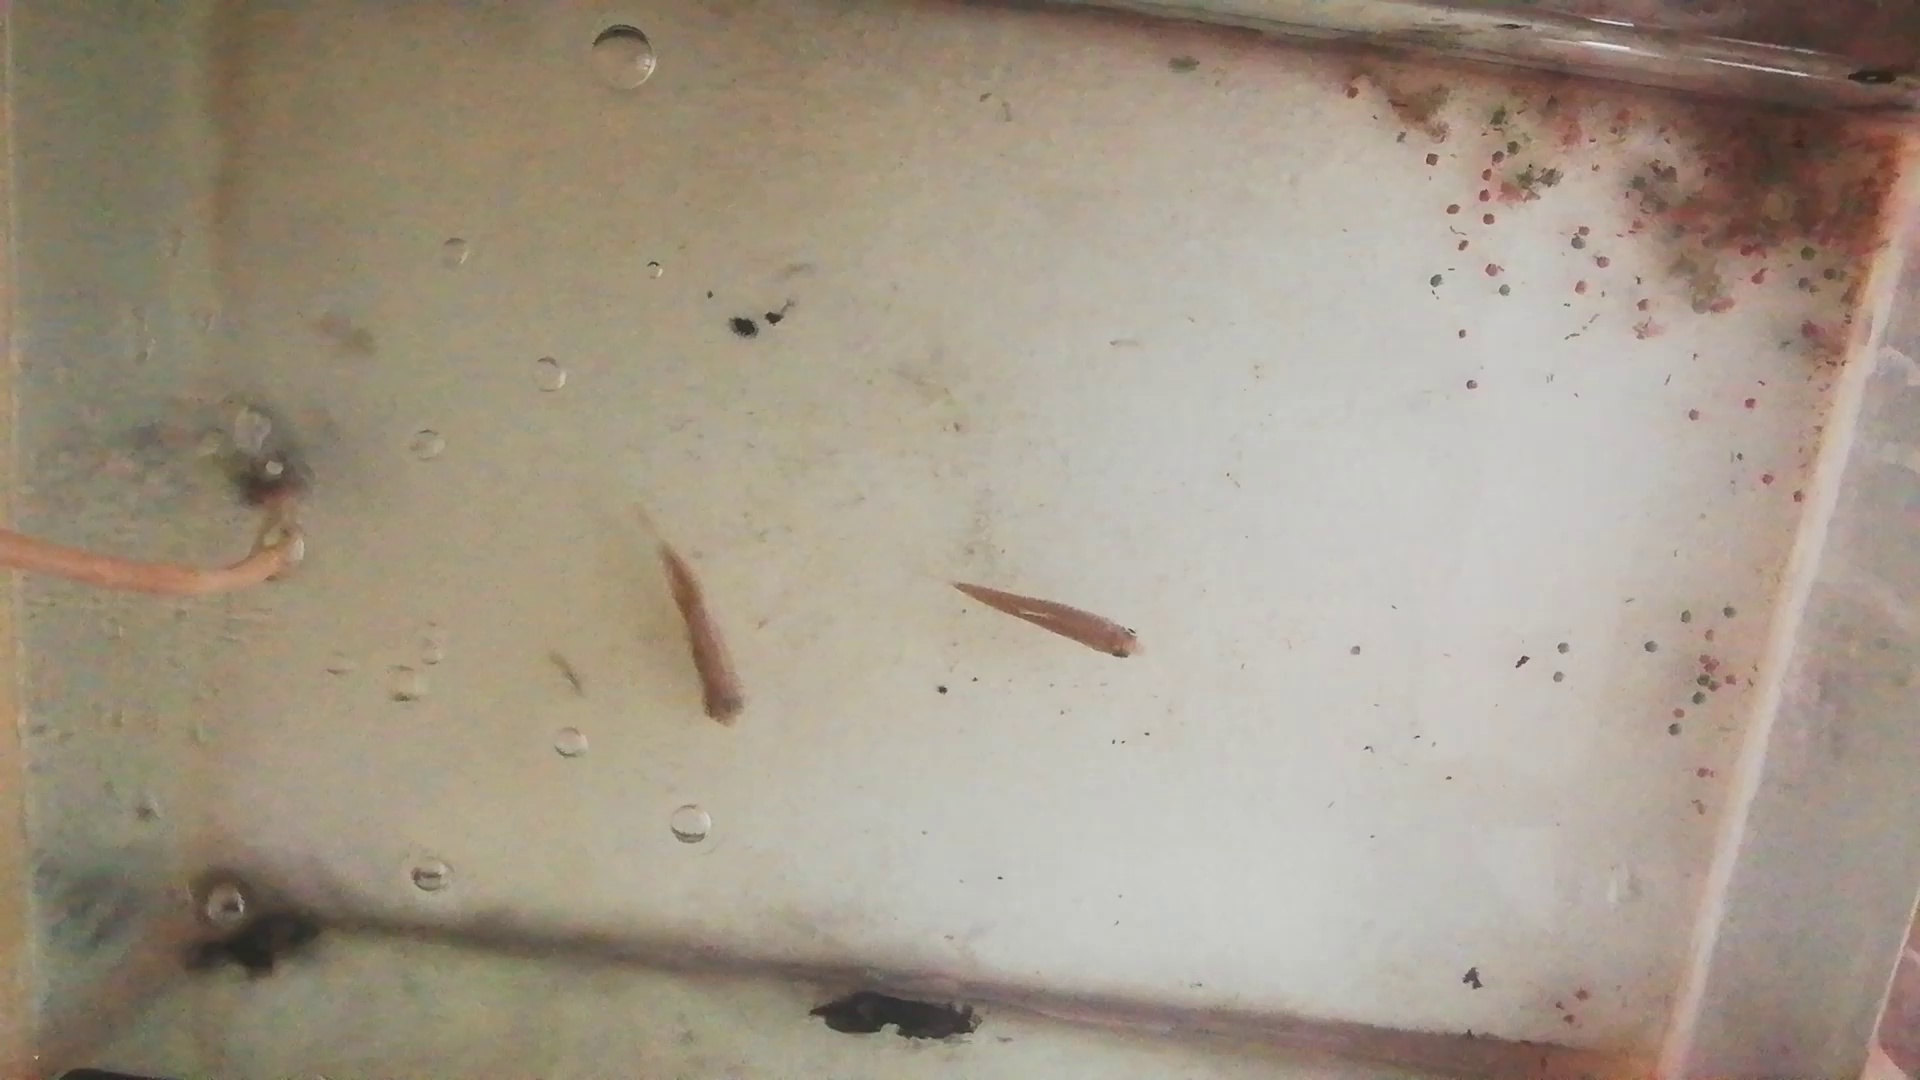fish: (654, 541, 746, 729), (951, 578, 1146, 665)
